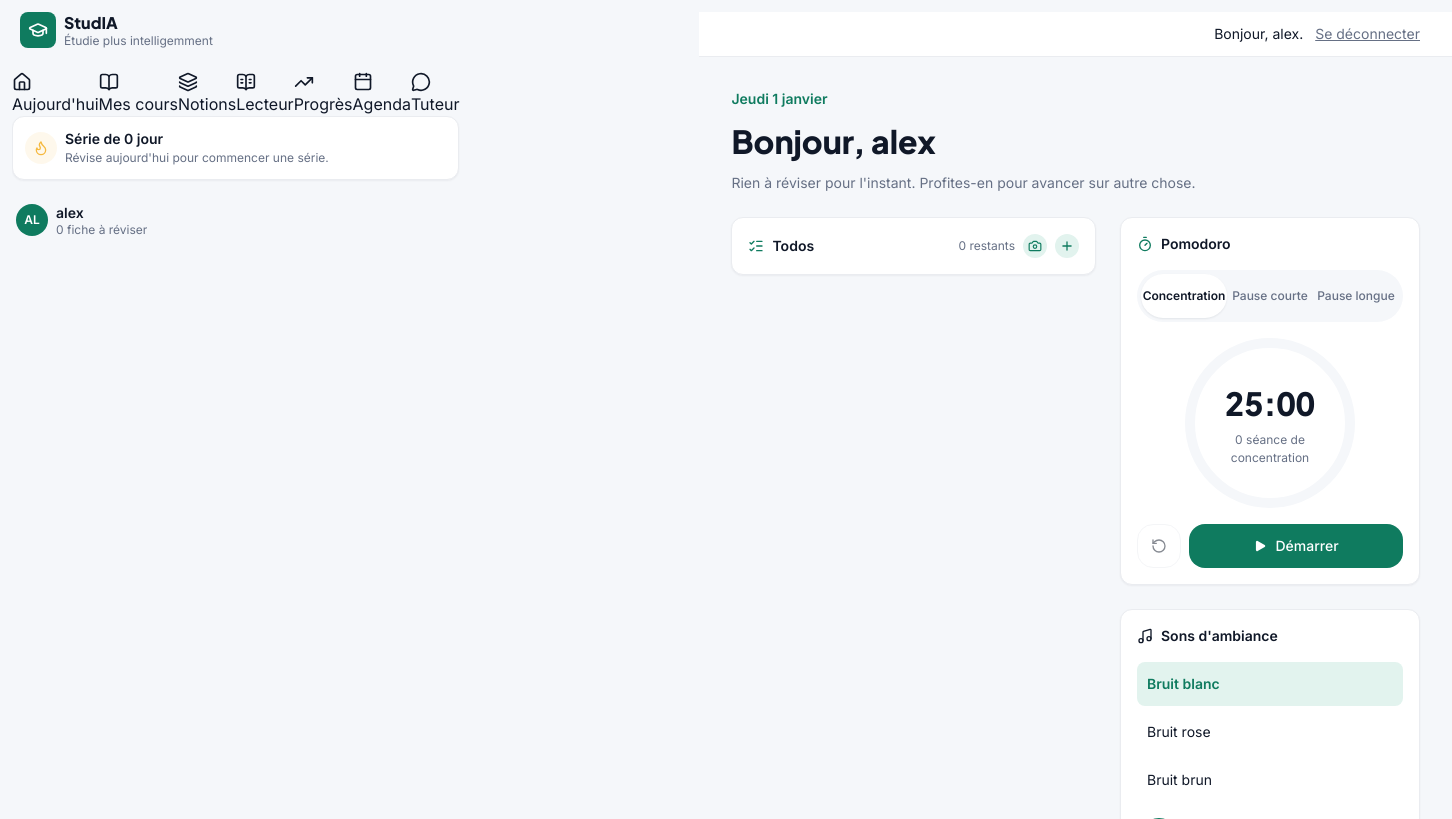
Scenario: App › Notions is reachable directly from the nav, showing a course pill selector and the first course's own notions immediately, no back link
expect the text "Bonjour, alex." is shown: met, box left=1214, top=24, right=1303, bottom=44
Click the button "Notions". click: (207, 94)
box: left=178, top=72, right=236, bottom=116
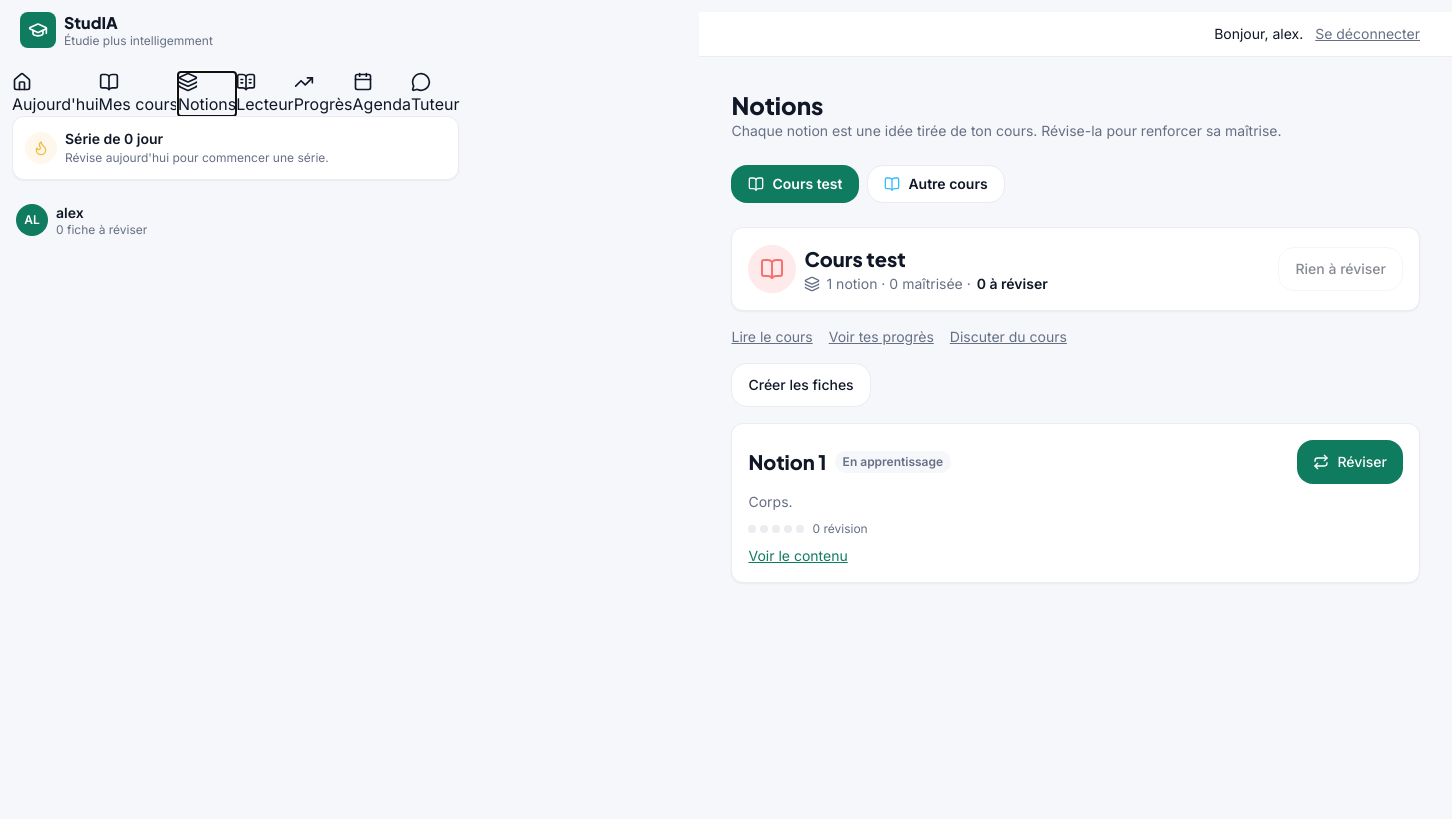
expect the heading "Notions" is shown: met, box left=732, top=90, right=823, bottom=120
expect the button "Autre cours" is shown: met, box left=867, top=165, right=1005, bottom=203
expect the heading "Cours test" is shown: met, box left=804, top=246, right=906, bottom=271
